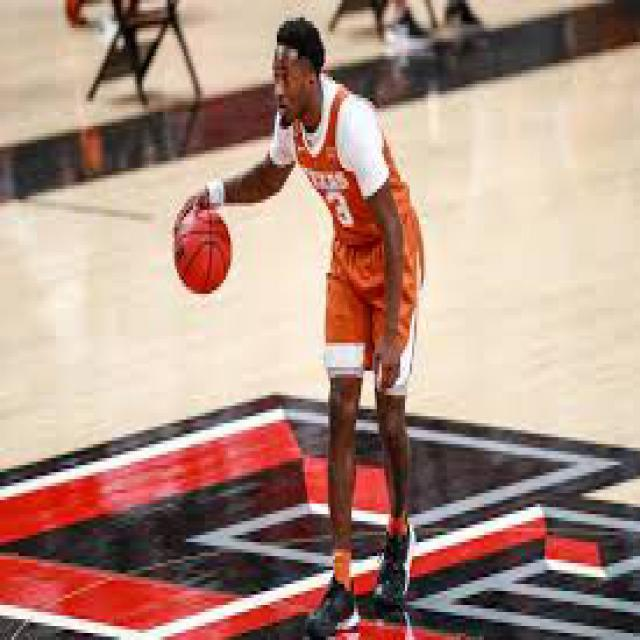basketball: (172, 210, 233, 298)
